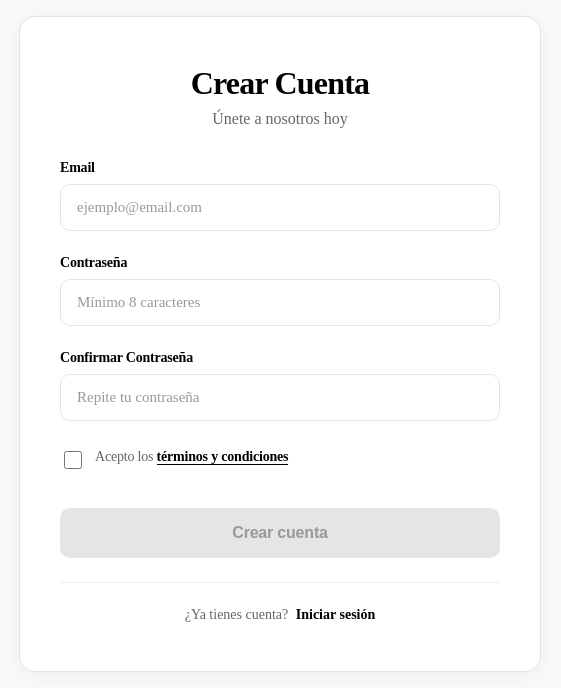
Test: Register.vue › Requiere aceptar términos
The width and height of the screenshot is (561, 688).
Type "a@b.com" into the field with id "email". click: {"x": 280, "y": 208}
box: [60,184,500,231]
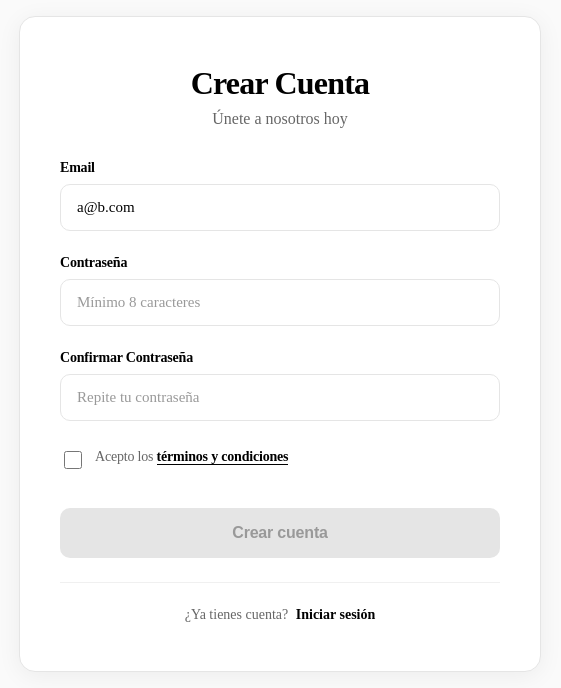
Type "12345678" into the password field labelled "Contraseña". click: {"x": 280, "y": 302}
box: [60,279,500,326]
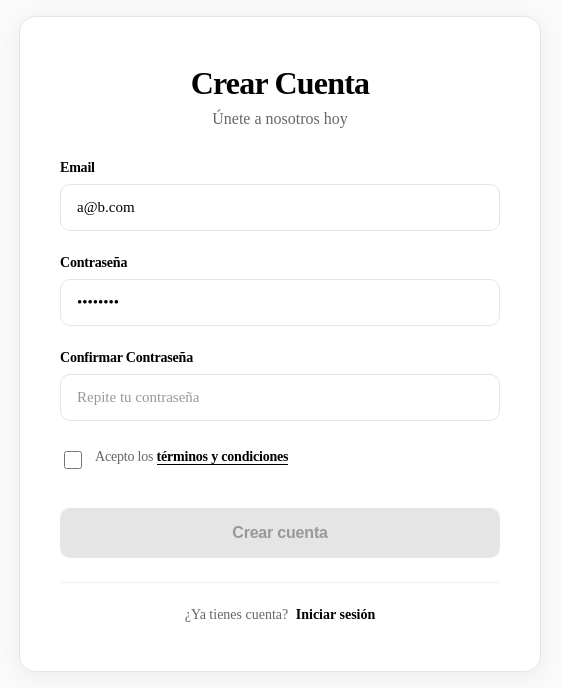
Type "12345678" into the password field with id "confirmPassword". click: {"x": 280, "y": 398}
box: [60,374,500,421]
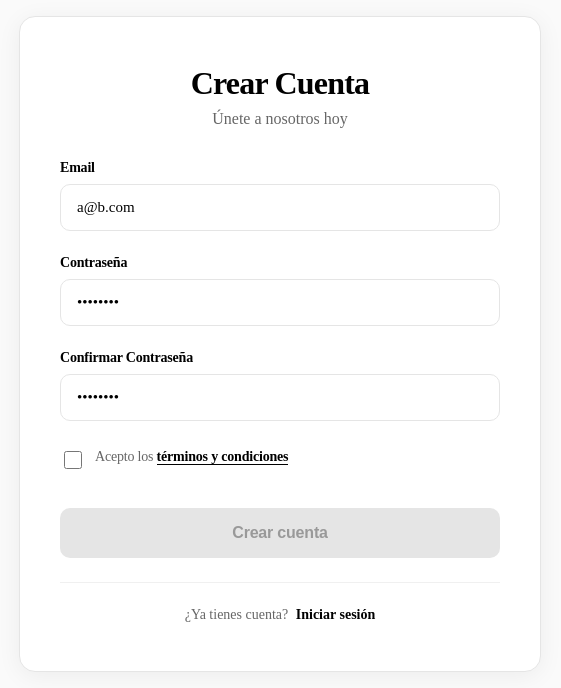
Expected: the submit button is disabled, [60,508,500,558]
Click the checkbox labelled "Acepto los términos y condiciones". click: {"x": 73, "y": 460}
box: [64,451,82,469]
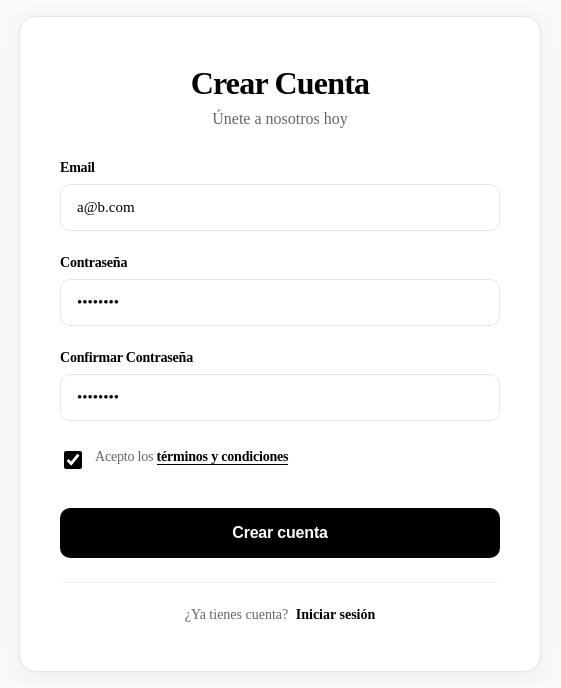
Result: the submit button is enabled at [60,508,500,558]
